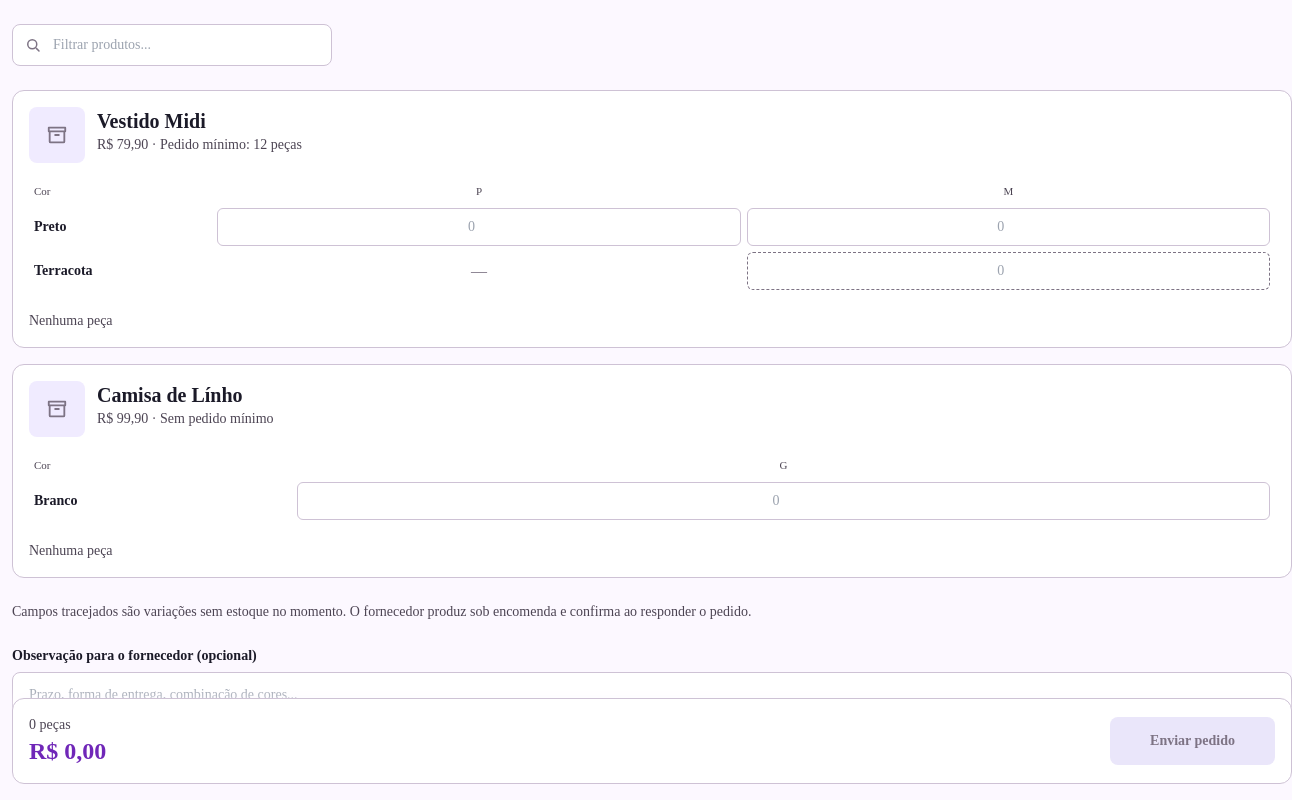
Test: OrderBuilder › keeps the order blocked until every product reaches its minimum
Check: the button "Enviar pedido" is disabled, box [1110,717,1275,765]
Type "6" into the number field named "Vestido Midi Preto P" at (479, 227), box [217,208,741,246]
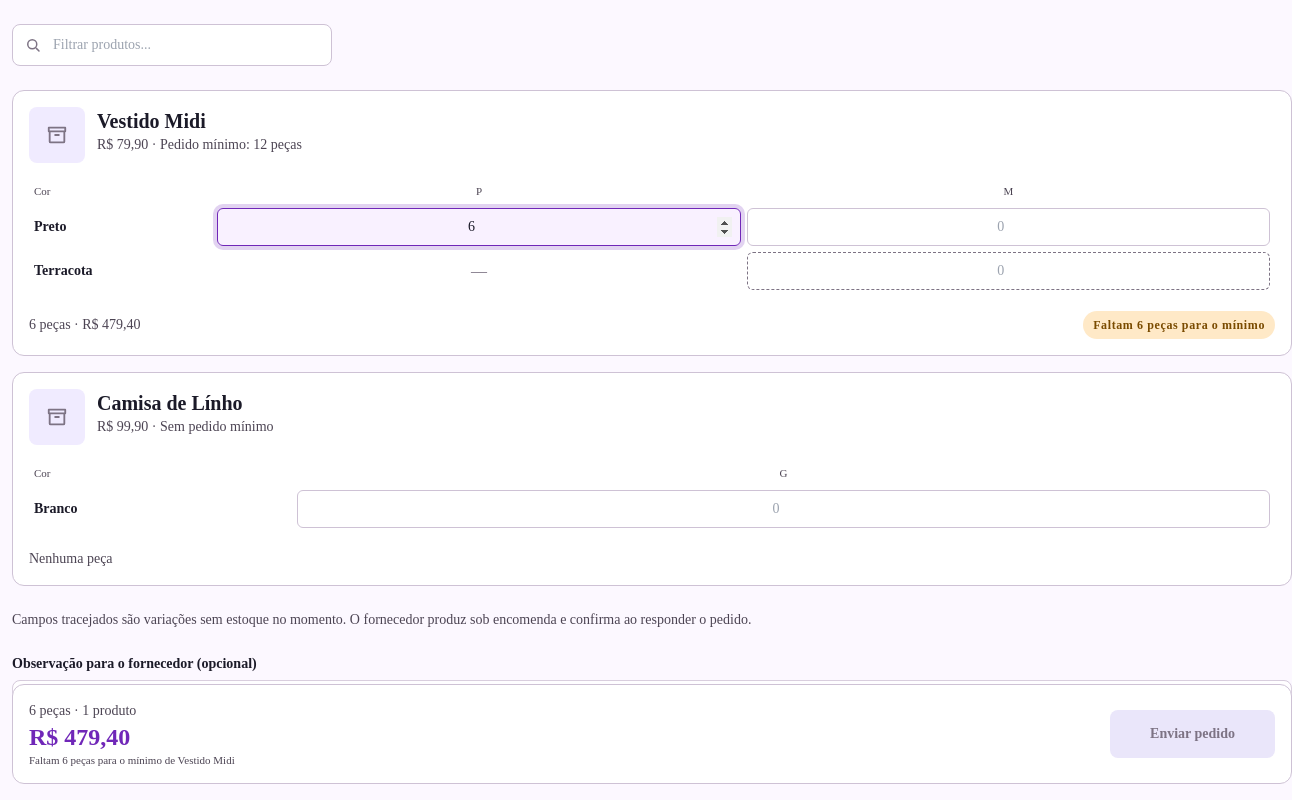
Type "4" into the number field named "Vestido Midi Preto M" at (1008, 227), box [747,208,1270,246]
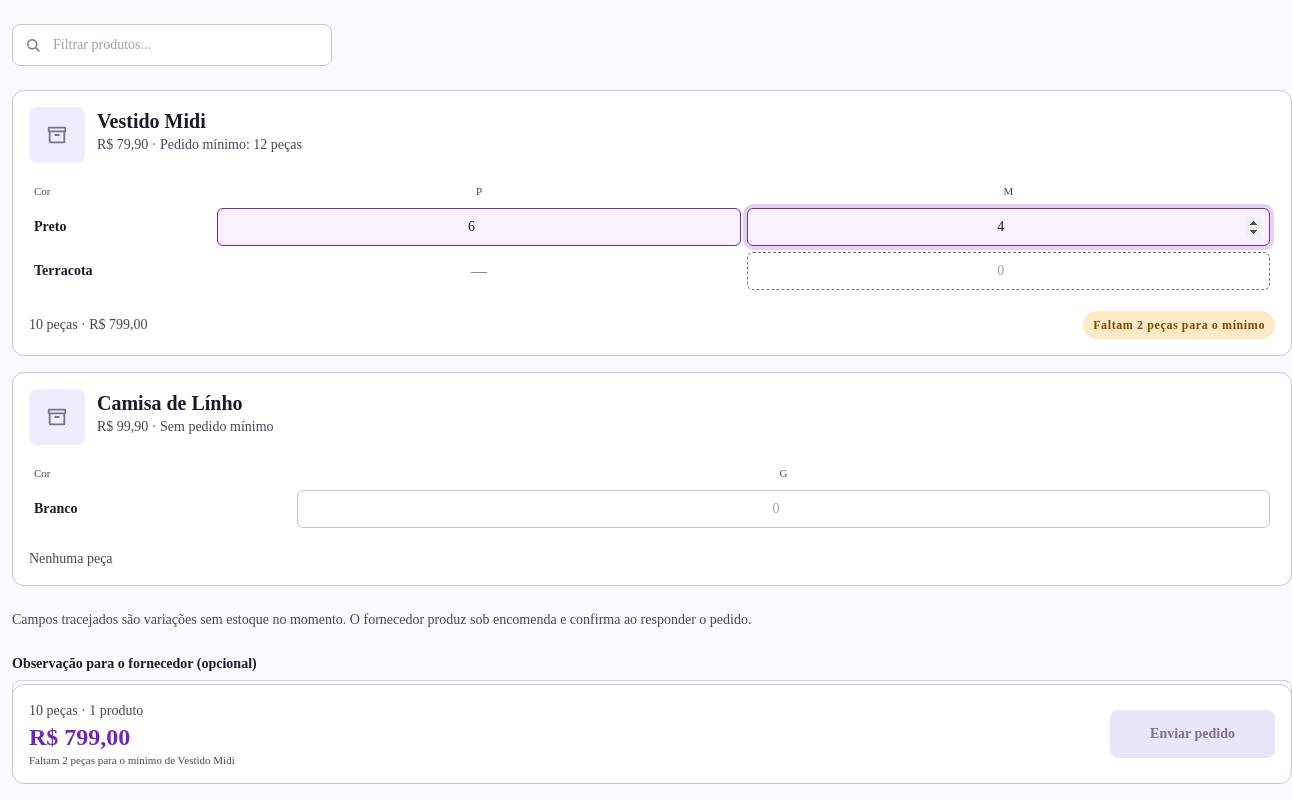
Check: the button "Enviar pedido" is disabled, box [1110,710,1275,758]
Check: the text "Faltam 2 peças para o mínimo" is shown, box [1083,311,1275,339]
Type "2" into the number field named "Vestido Midi Terracota M" at (1008, 271), box [747,252,1270,290]
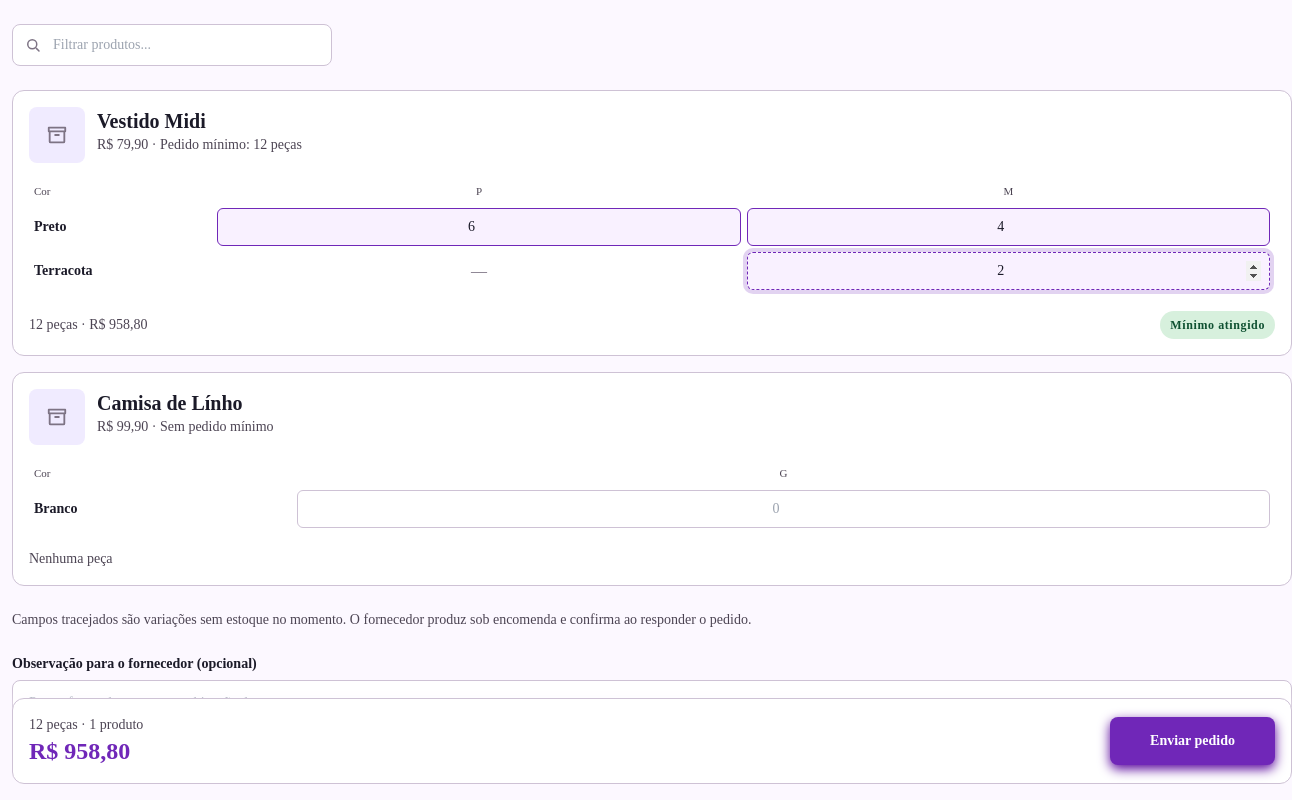
Check: the text "Mínimo atingido" is shown, box [1160,311,1275,339]
Check: the button "Enviar pedido" is enabled, box [1110,717,1275,765]
